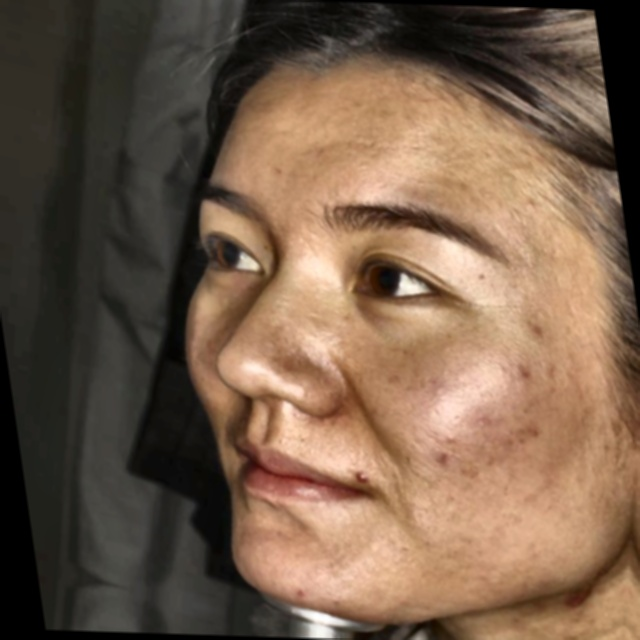comedone: (422, 439, 467, 479), (348, 461, 375, 487)
